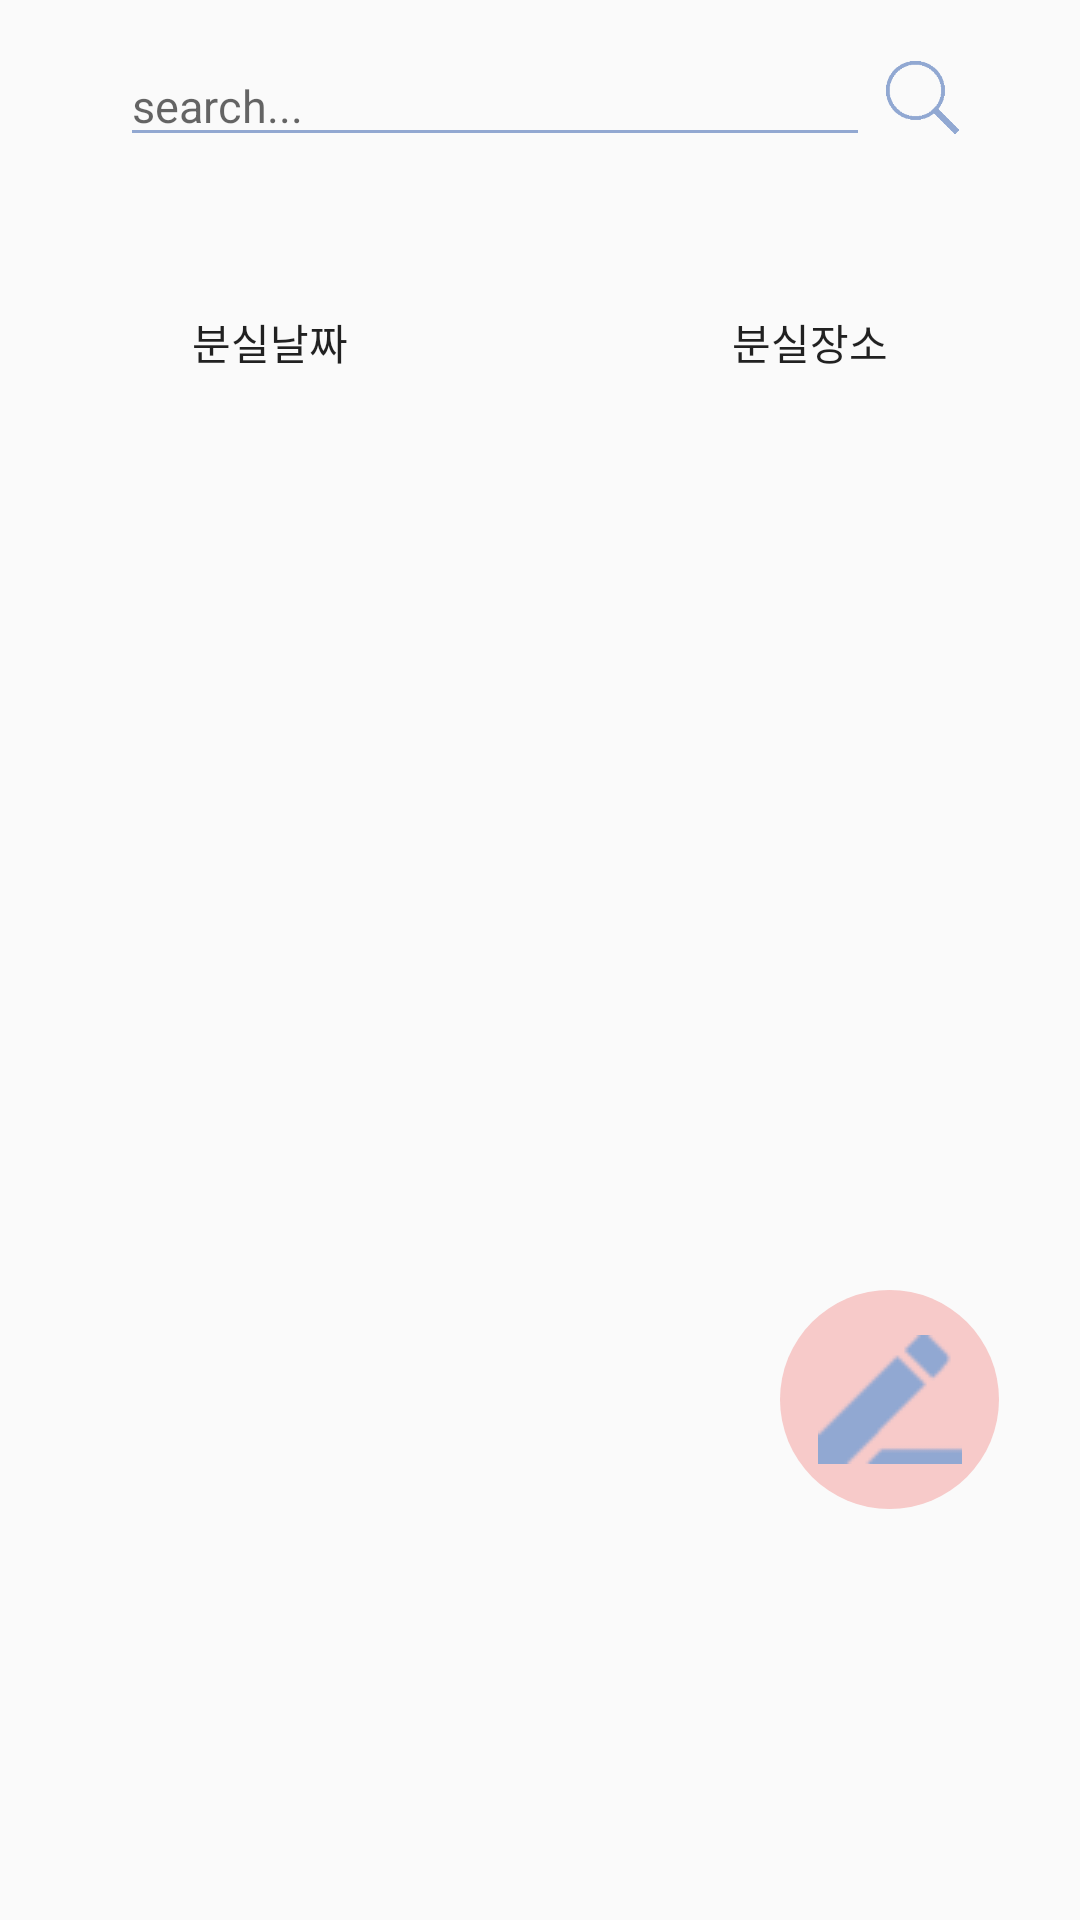

Where icons sit on this 1080 × 1920 app screen, as {"left": x1, "top": y1, "right": x2, "bottom": y2}:
find: {"left": 886, "top": 61, "right": 959, "bottom": 134}
pencil: {"left": 780, "top": 1290, "right": 999, "bottom": 1509}
